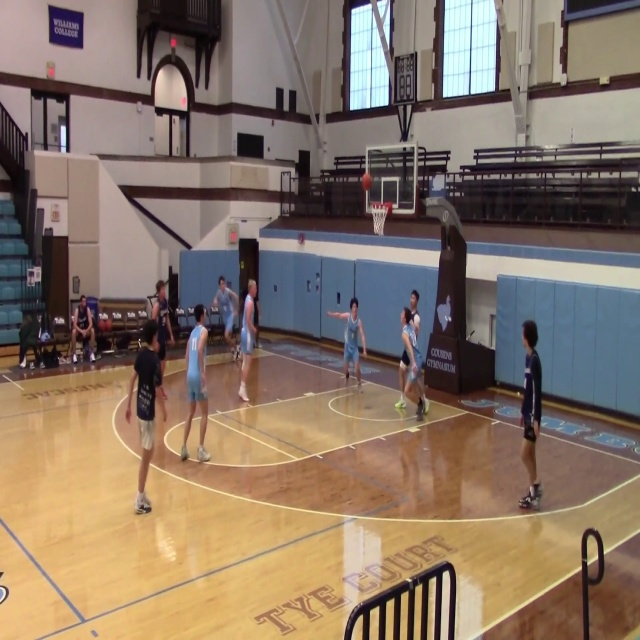Basketball: (98, 317, 112, 332), (361, 173, 372, 191), (383, 202, 392, 215)
